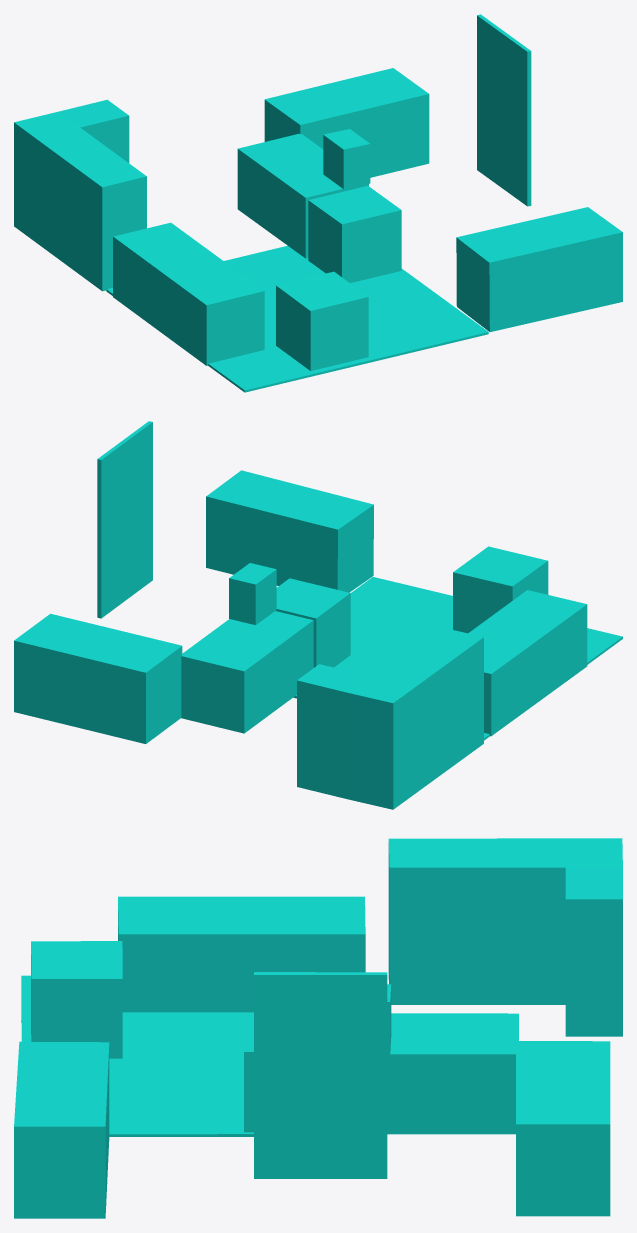
The model's file is Gropius-Colliders-Only.fbx.
3 renders of one model, top to bottom at view 1: azimuth 30°, elevation 25°; view 2: azimuth 150°, elevation 25°; view 3: azimuth 270°, elevation 25°, orthographic. The views are drawn at different scales.
Parts seen in each view (by area): view 1: Shelving-Window, Shelf-right, Couch, Carpet, Shelf-left, Desk, wall-painting, Armchair_Sofa, Armchair_Desk; view 2: Shelving-Window, Shelf-left, Shelf-right, Desk, Couch, wall-painting, Carpet, Armchair_Sofa, Armchair_Desk; view 3: Shelving-Window, wall-painting, Couch, Carpet, Shelf-left, Shelf-right, Desk, Armchair_Sofa, Armchair_Desk.
Boxes of the visible parts, left/top/right/bottom form: Shelving-Window: left=14, top=99, right=146, bottom=291; Shelf-right: left=456, top=207, right=622, bottom=331; Couch: left=113, top=222, right=264, bottom=365; Carpet: left=106, top=245, right=488, bottom=392; Shelf-left: left=264, top=68, right=429, bottom=177; Desk: left=237, top=129, right=370, bottom=258; wall-painting: left=477, top=14, right=531, bottom=206; Armchair_Sofa: left=276, top=271, right=368, bottom=370; Armchair_Desk: left=308, top=185, right=401, bottom=282; Shelving-Window: left=297, top=626, right=483, bottom=809; Shelf-left: left=14, top=613, right=182, bottom=743; Shelf-right: left=206, top=470, right=373, bottom=592; Desk: left=181, top=563, right=313, bottom=733; Couch: left=468, top=590, right=587, bottom=736; wall-painting: left=97, top=421, right=152, bottom=618; Carpet: left=293, top=577, right=622, bottom=740; Armchair_Sofa: left=453, top=546, right=548, bottom=633; Armchair_Desk: left=276, top=578, right=350, bottom=667; Shelving-Window: left=388, top=838, right=622, bottom=1036; wall-painting: left=254, top=972, right=387, bottom=1178; Couch: left=118, top=896, right=365, bottom=1012; Carpet: left=21, top=975, right=253, bottom=1136; Shelf-left: left=516, top=1041, right=610, bottom=1216; Shelf-right: left=14, top=1041, right=109, bottom=1218; Desk: left=387, top=984, right=518, bottom=1134; Armchair_Sofa: left=31, top=941, right=122, bottom=1058; Armchair_Desk: left=244, top=1013, right=253, bottom=1132.
Bounding box in the file's own units: 496 × 234 × 523.
